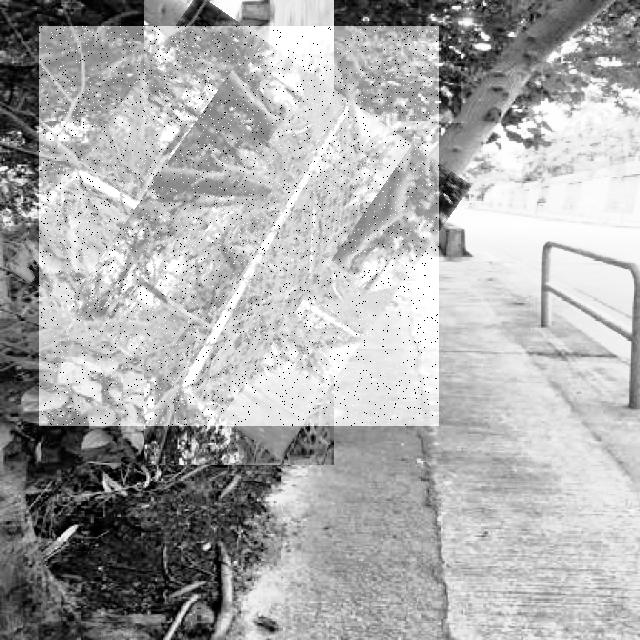anomaly-fence: (39, 26, 439, 426)
